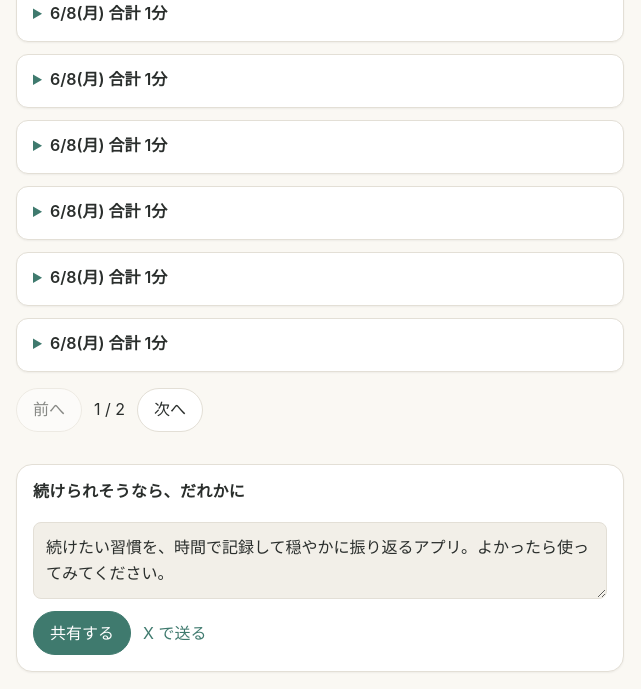
Test: SummaryPage (UC6) › SM-S8: 活動の記録は 10 件/ページでページネーションする（R20260614）
This screenshot has width=641, height=689.
(page scrolled)
Check: the text with test id "page-indicator" reads "1 / 2", box left=94, top=397, right=125, bottom=422
Note: 次へ → 2 ページ目に sess_00、sess_10 は消える。
Click the button "次へ": (170, 410) left=137, top=388, right=203, bottom=432
(page scrolled)
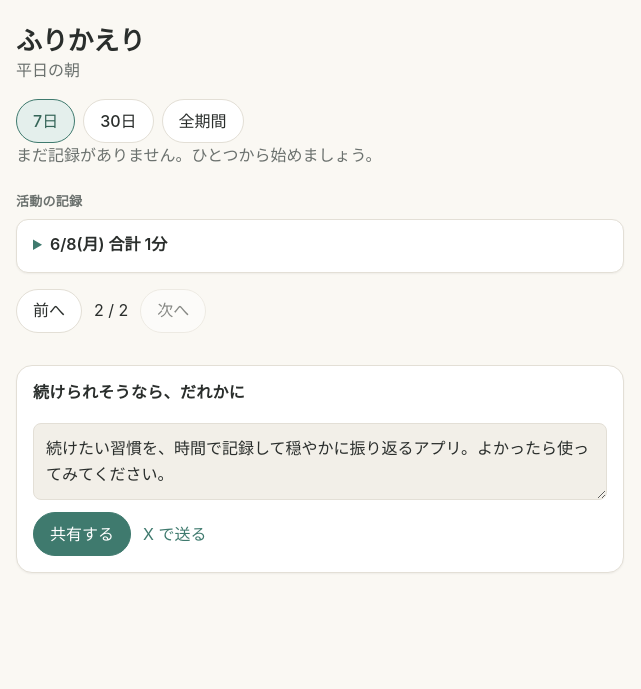
Check: the text "合計 1分" is shown, box left=108, top=234, right=167, bottom=254
Check: the text with test id "page-indicator" reads "2 / 2", box left=94, top=298, right=128, bottom=323
